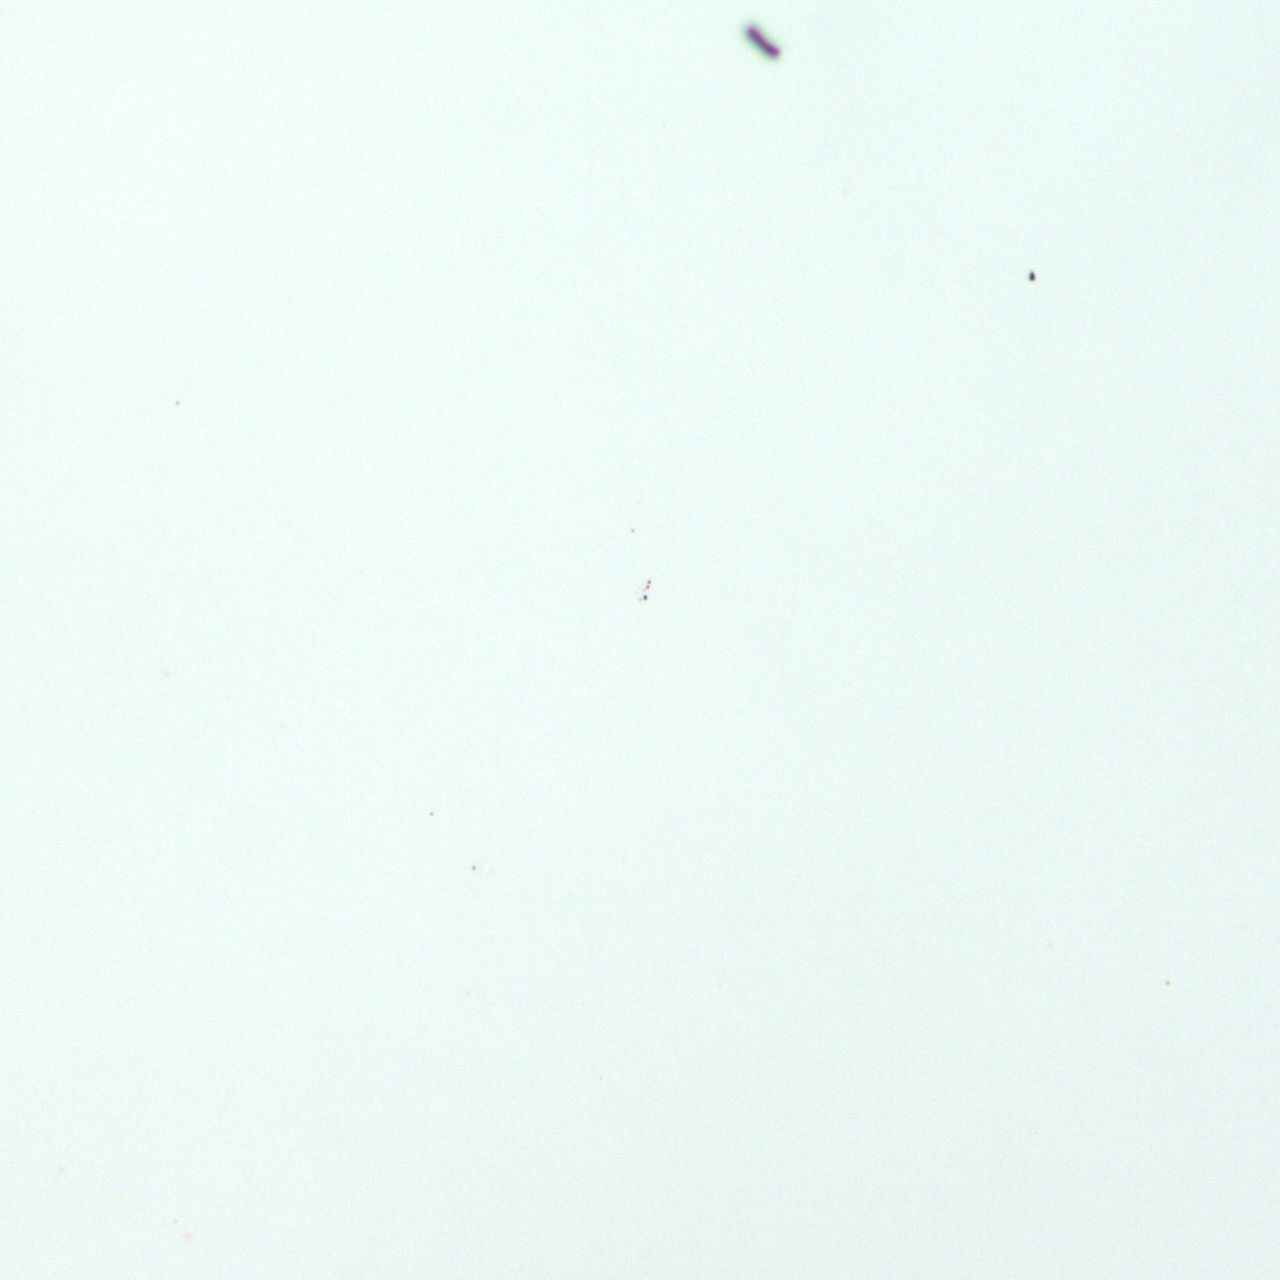dust: (740, 18, 792, 69), (1027, 271, 1036, 280), (642, 595, 648, 601), (631, 527, 635, 535), (645, 585, 649, 590), (429, 812, 434, 817), (471, 865, 476, 870), (646, 580, 651, 584)
